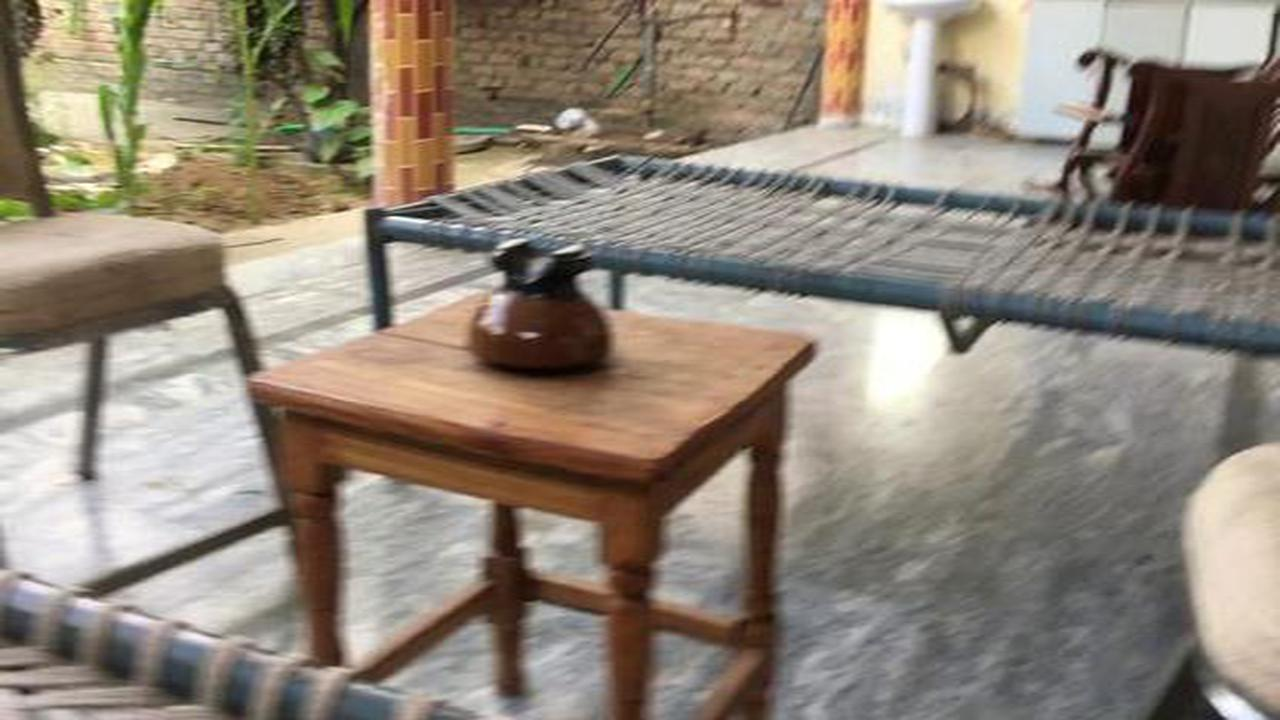insulator_pin: (444, 222, 634, 386)
